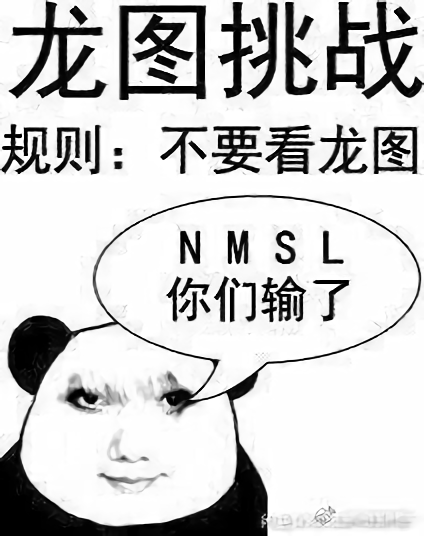dragon: (60, 370, 201, 494)
